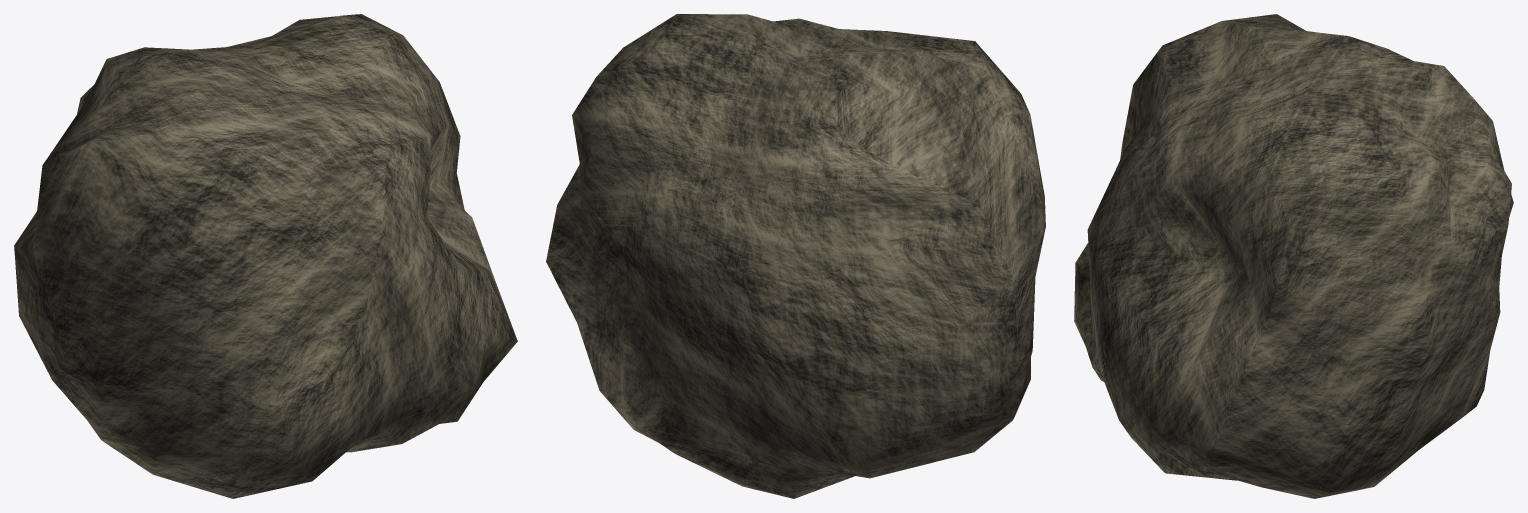
File: RockOfDeath.FBX
3 renders of one model, left to right at view 1: azimuth 30°, elevation 25°; view 2: azimuth 150°, elevation 25°; view 3: azimuth 270°, elevation 25°, orthographic. The views are drawn at different scales.
Visible parts, largest first — view 1: Box001; view 2: Box001; view 3: Box001.
Part boxes in pixels (x1,y1,x2,y2): Box001: [14, 14, 517, 498]; Box001: [546, 14, 1045, 498]; Box001: [1074, 14, 1513, 498].
Bounding box in the file's own units: 14.46 × 13.06 × 13.66.
